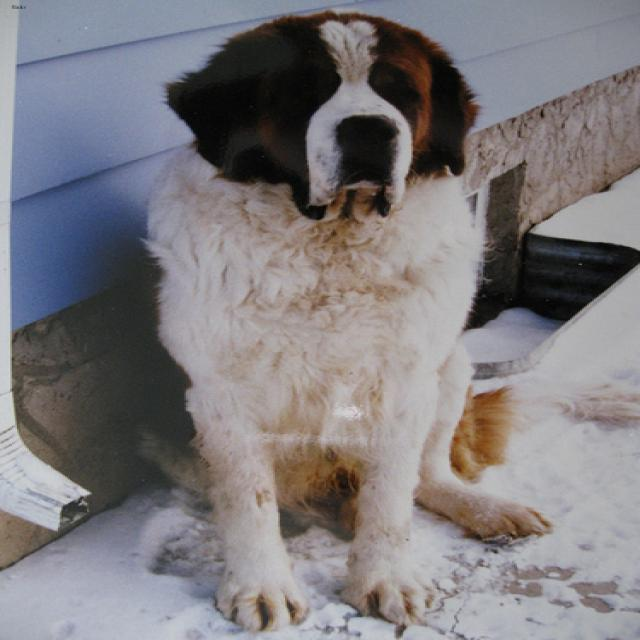dog-saint_bernard: (116, 1, 567, 637)
